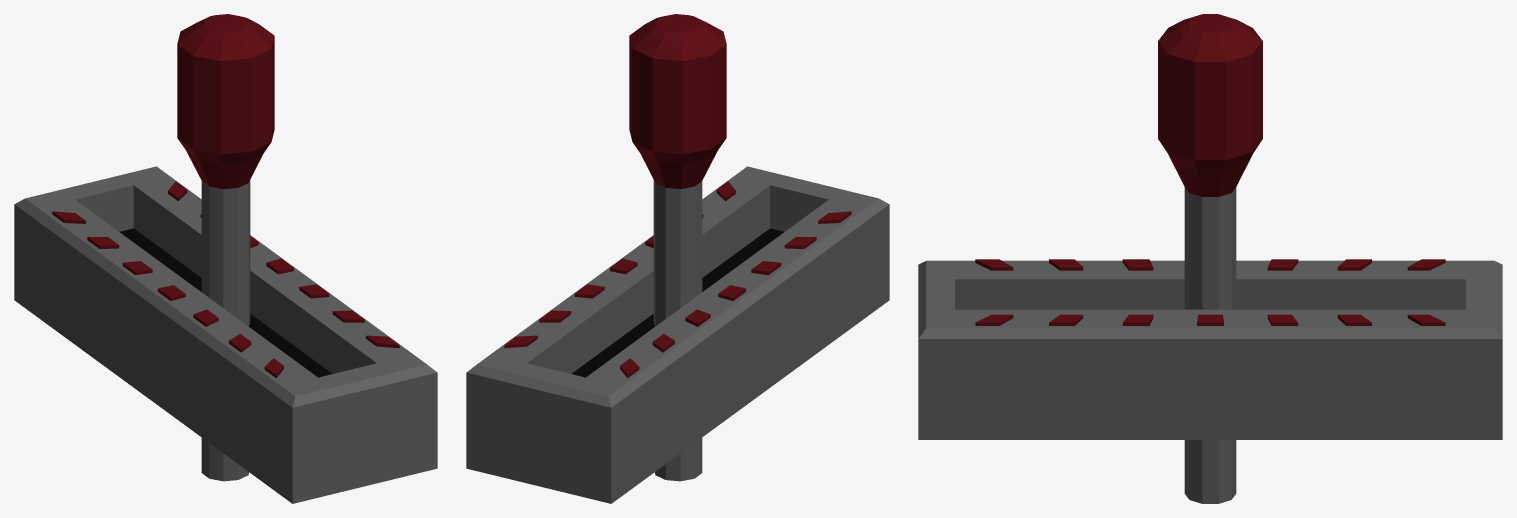
Rendered from throttleLever.fbx.
The picture shows the model from 3 angles, left to right: view 1: azimuth 30°, elevation 25°; view 2: azimuth 150°, elevation 25°; view 3: azimuth 270°, elevation 25°; orthographic projection. The views are drawn at different scales.
Visible parts, largest first — view 1: Cube, Cylinder; view 2: Cube, Cylinder; view 3: Cube, Cylinder.
Boxes of the visible parts, box(x1,y1,x2,y2) form: Cube: box(14, 166, 437, 503); Cylinder: box(177, 14, 274, 481); Cube: box(466, 166, 889, 503); Cylinder: box(629, 14, 726, 481); Cube: box(918, 259, 1502, 439); Cylinder: box(1158, 14, 1262, 503).
Size of the model in its own units: 344 by 1016 by 1144.
